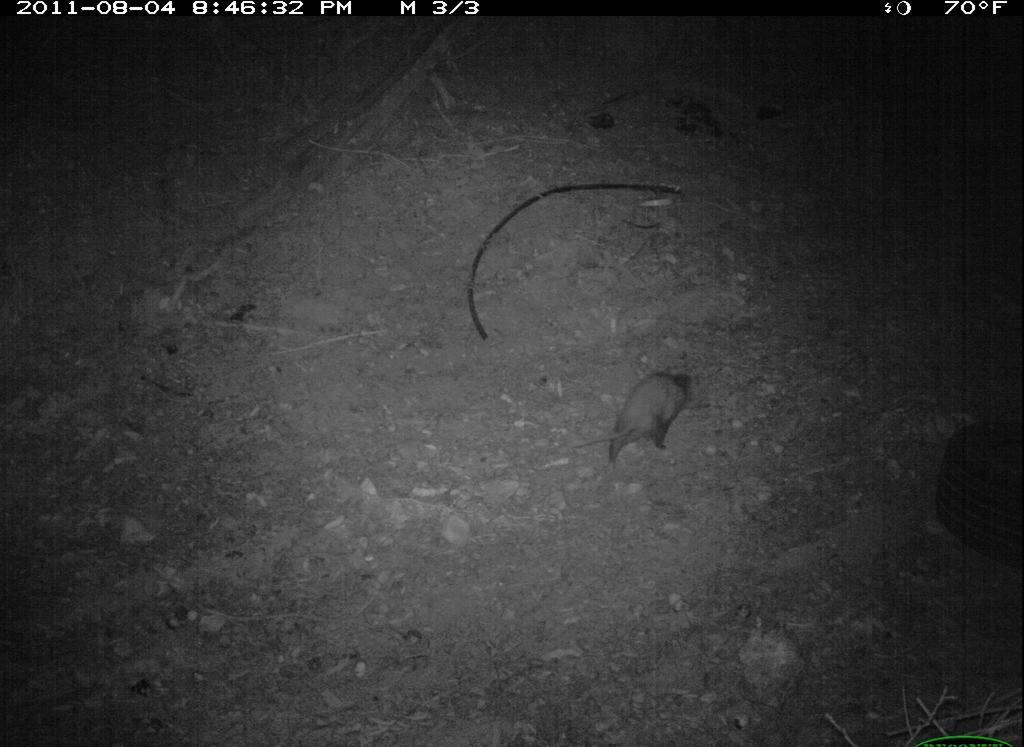opossum: (569, 363, 705, 481)
